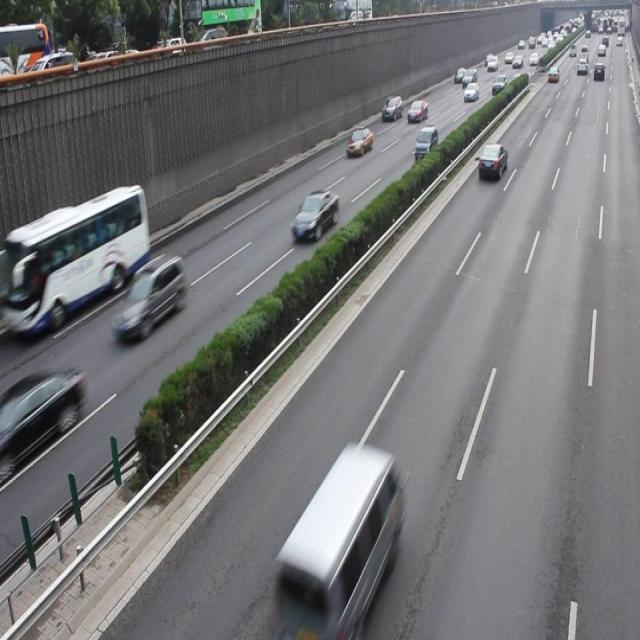car: (9, 366, 83, 461), (112, 254, 183, 336), (291, 190, 337, 240), (477, 143, 506, 179)
truck: (278, 443, 400, 640)
van: (8, 187, 151, 341)
